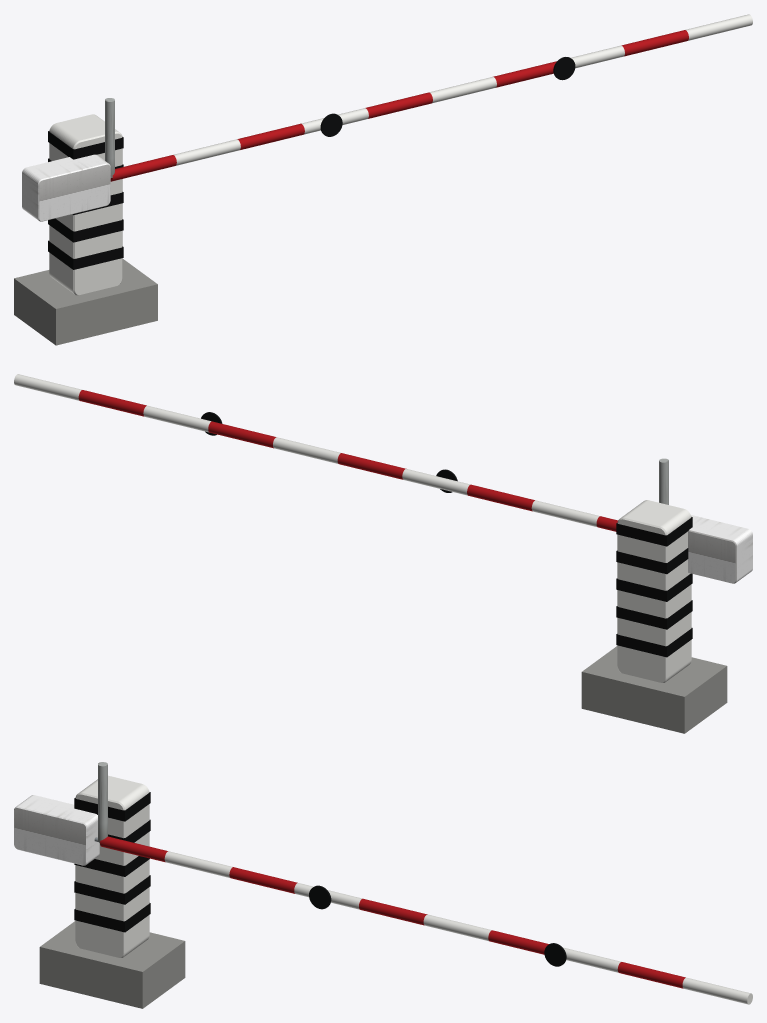
3 views of the same model, one above another, from view 1: azimuth 30°, elevation 25°; view 2: azimuth 150°, elevation 25°; view 3: azimuth 330°, elevation 25° (orthographic).
Visible parts, largest first — view 1: jp-crossing-gate, gate_arm; view 2: jp-crossing-gate, gate_arm; view 3: jp-crossing-gate, gate_arm.
Boxes of the visible parts, bbox=[...] form: jp-crossing-gate: bbox=[14, 98, 157, 345]; gate_arm: bbox=[22, 14, 752, 221]; jp-crossing-gate: bbox=[581, 458, 727, 733]; gate_arm: bbox=[14, 374, 752, 583]; jp-crossing-gate: bbox=[39, 762, 185, 1008]; gate_arm: bbox=[14, 795, 752, 1004].
Bounding box in the file's own units: 4.95 × 1.5 × 0.55.
Materials: 10 (2 with a texture image).
